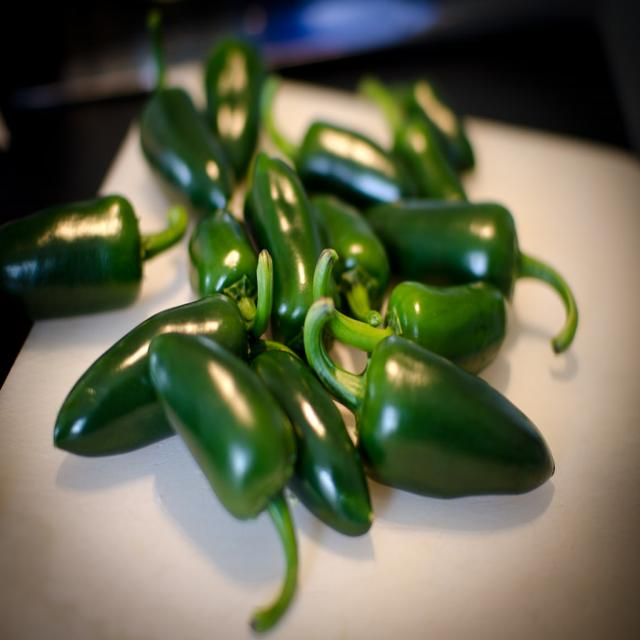aji: (66, 68, 546, 542)
